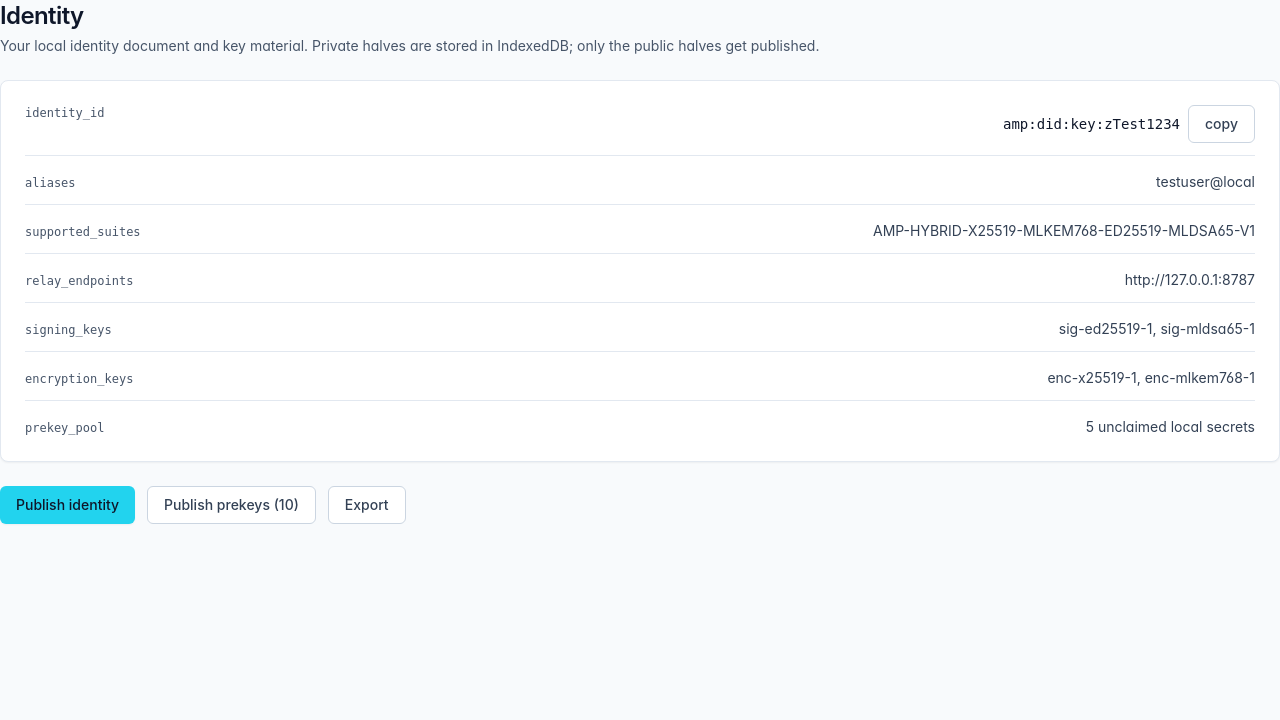
Scenario: Identity page › shows export JSON when Export is clicked
Step 1. Click the button "Export" → [367, 505], box [328,486,406,524]
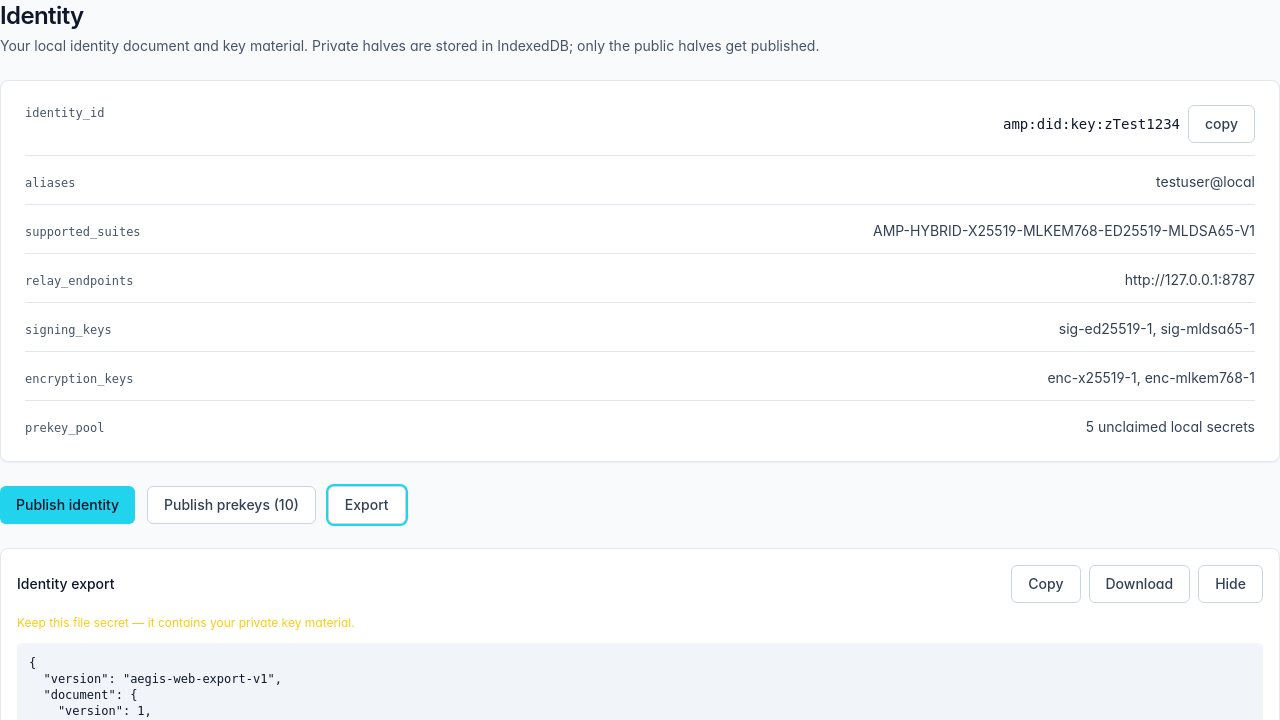
Result: the text "Keep this file secret" is shown at [17,615,355,630]
